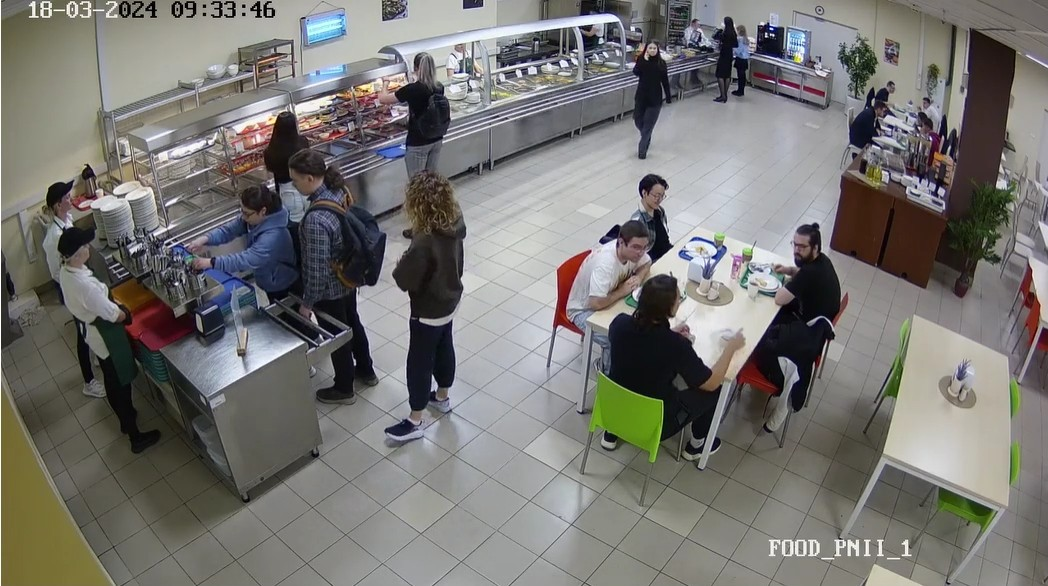Na_Kasse: (711, 10, 736, 107), (732, 22, 751, 97)
Ne_v_Ocheredi: (630, 37, 669, 160)
Personal: (36, 225, 225, 459), (27, 178, 98, 240), (448, 33, 482, 79), (579, 7, 606, 45), (681, 15, 704, 49)
Vybiraet: (280, 154, 376, 402), (388, 170, 467, 440), (181, 179, 292, 295), (378, 45, 451, 183), (256, 108, 306, 184)
Za_Stolom: (609, 272, 708, 432), (574, 216, 653, 339), (774, 222, 844, 332), (635, 174, 677, 253), (850, 96, 888, 149), (916, 116, 943, 152), (872, 79, 905, 104), (917, 95, 938, 119)
